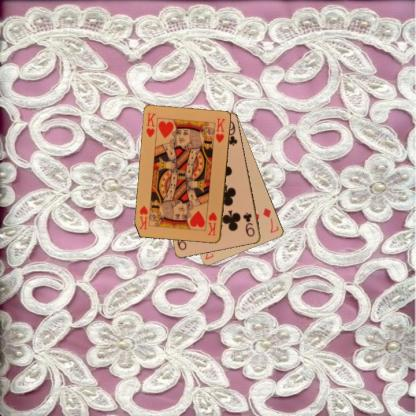7d: (261, 205, 280, 235)
9c: (240, 210, 256, 238)
Kh: (144, 110, 157, 139), (205, 209, 218, 237)
